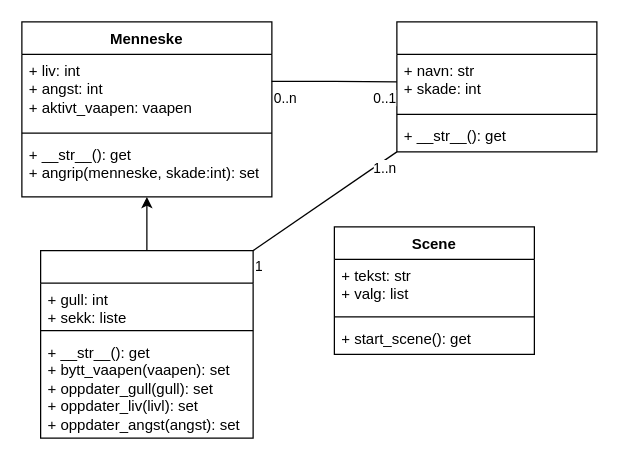
Some shapes in this 619 by 464 pixel diagram are drawn without their labels. Here are the shapes that lost their labels. From the top down, the box of each, then its label:
(396, 21, 597, 152): Vaapen
(39, 249, 253, 438): Spiller
